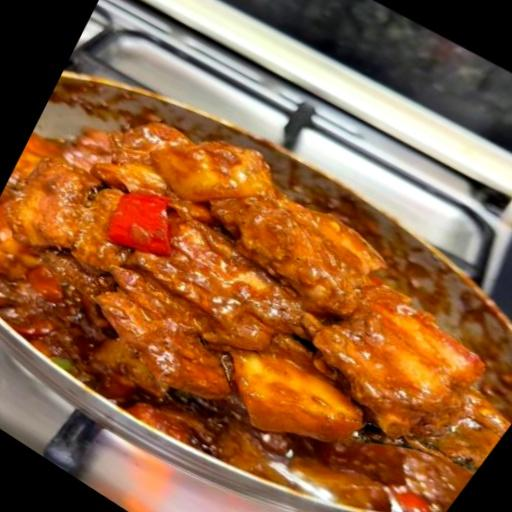pork caldereta: (0, 116, 494, 511)
